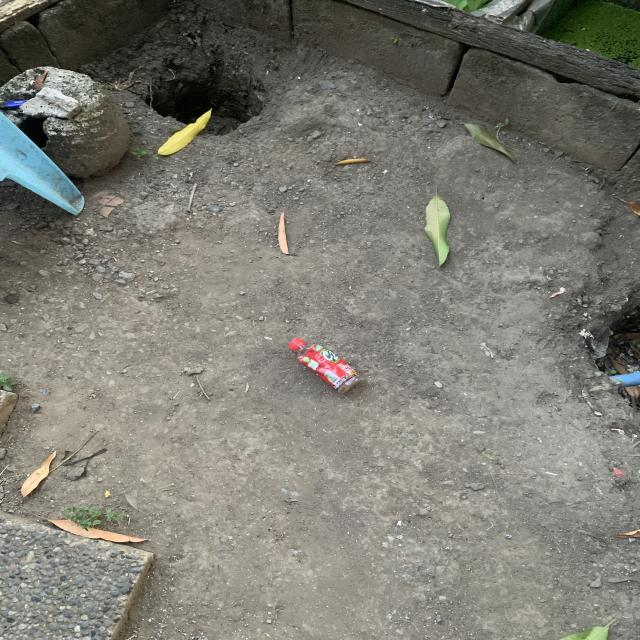Bottle: (288, 338, 361, 393)
